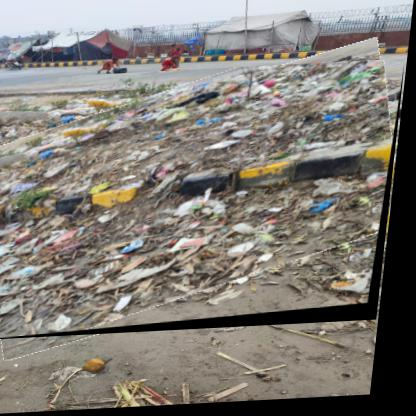Garbage: (1, 64, 409, 343)
